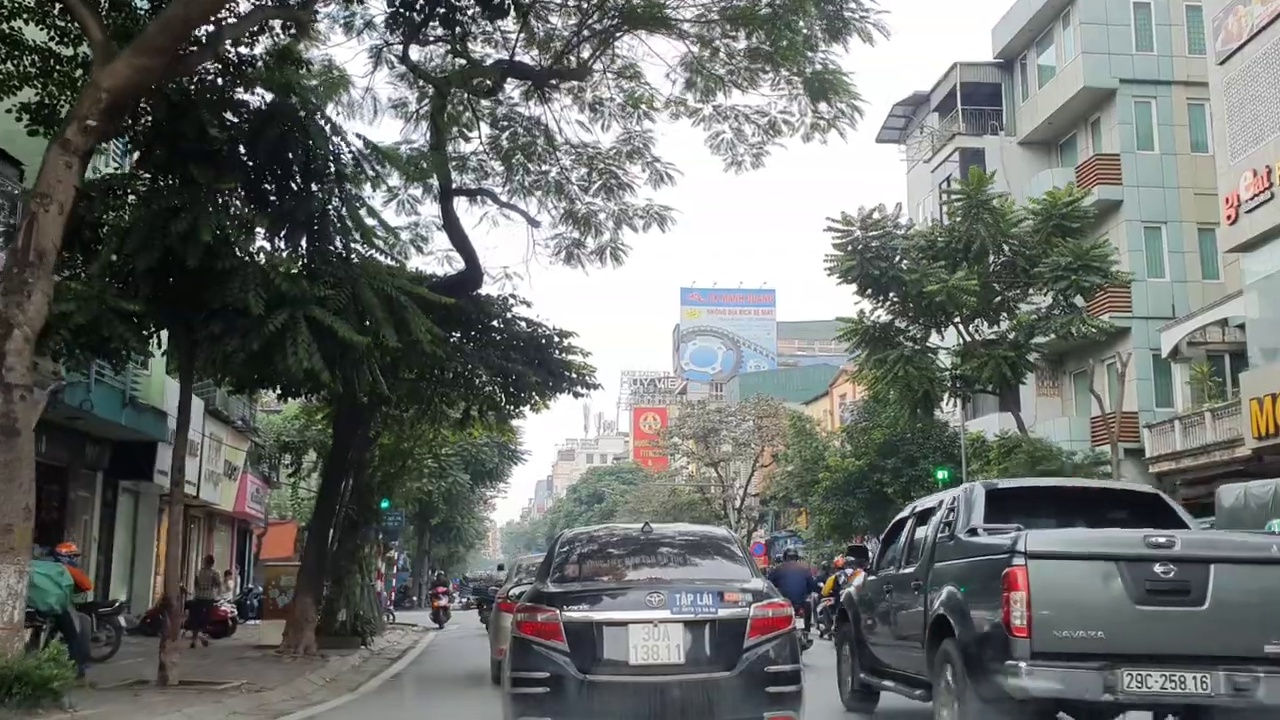vehicle-plate: (1122, 657, 1221, 705)
